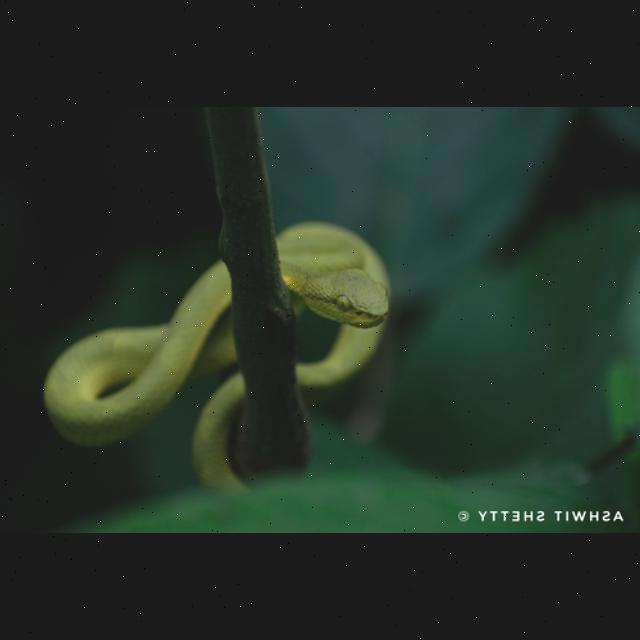snake: (35, 224, 389, 496)
